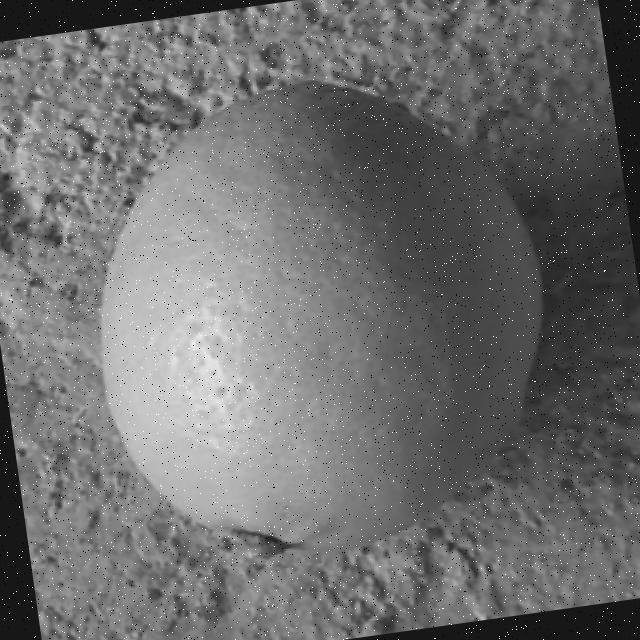Ripe: (58, 47, 590, 588)
